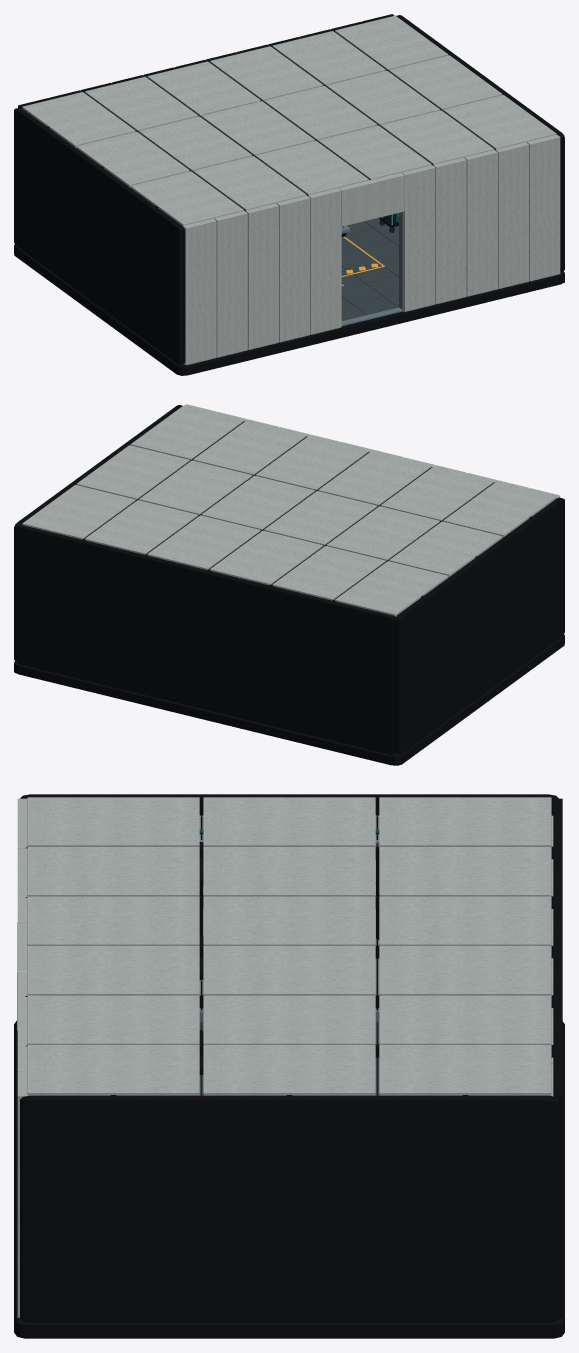
File: industrial-lab.glb
3 views of the same model, one above another, from view 1: azimuth 30°, elevation 25°; view 2: azimuth 150°, elevation 25°; view 3: azimuth 270°, elevation 25° (orthographic). The views are drawn at different scales.
Visible parts, largest first — view 1: SideWall_Structure, Foundation, FrontWall_Panel.005, FrontWall_Panel, FrontWall_Panel.003, FrontWall_Panel.004, FrontWall_Panel.007, FrontWall_Panel.001, FrontWall_Panel.006, FrontWall_Panel.008, FrontWall_Panel.009, FrontWall_Panel.002 (+27 smaller); view 2: SideWall_Structure, Foundation, RearWall_Structure, RearWall_Structure.003, RearWall_Structure.005, RearWall_Structure.001, RearWall_Structure.004, RearWall_Structure.007, RearWall_Structure.008, RearWall_Structure.002, RearWall_Structure.006, RearWall_Structure.009 (+21 smaller); view 3: SideWall_Structure.001, Foundation, Ceiling_RemovablePanel.016, Ceiling_RemovablePanel.017, Ceiling_RemovablePanel.015, Ceiling_RemovablePanel.001, Ceiling_RemovablePanel.002, Ceiling_RemovablePanel.003, Ceiling_RemovablePanel.004, Ceiling_RemovablePanel.005, Ceiling_RemovablePanel.006, Ceiling_RemovablePanel.007 (+11 smaller).
Boxes of the visible parts, <box> form: SideWall_Structure: <box>14,107,184,364</box>; Foundation: <box>14,245,564,375</box>; FrontWall_Panel.005: <box>402,165,435,311</box>; FrontWall_Panel: <box>183,218,216,365</box>; FrontWall_Panel.003: <box>276,195,310,342</box>; FrontWall_Panel.004: <box>308,188,341,334</box>; FrontWall_Panel.007: <box>464,149,497,296</box>; FrontWall_Panel.001: <box>214,211,247,357</box>; FrontWall_Panel.006: <box>433,157,466,304</box>; FrontWall_Panel.008: <box>496,142,529,288</box>; FrontWall_Panel.009: <box>527,134,560,281</box>; FrontWall_Panel.002: <box>246,203,278,349</box>; SideWall_Structure: <box>394,497,564,754</box>; Foundation: <box>14,634,564,765</box>; RearWall_Structure: <box>361,609,395,755</box>; RearWall_Structure.003: <box>268,586,301,732</box>; RearWall_Structure.005: <box>205,571,238,717</box>; RearWall_Structure.001: <box>330,601,364,747</box>; RearWall_Structure.004: <box>236,578,270,724</box>; RearWall_Structure.007: <box>143,555,176,701</box>; RearWall_Structure.008: <box>111,548,145,694</box>; RearWall_Structure.002: <box>299,593,332,740</box>; RearWall_Structure.006: <box>174,563,207,709</box>; RearWall_Structure.009: <box>80,540,113,686</box>; SideWall_Structure.001: <box>20,1095,558,1322</box>; Foundation: <box>14,1021,564,1338</box>; Ceiling_RemovablePanel.016: <box>203,1045,375,1095</box>; Ceiling_RemovablePanel.017: <box>379,1045,551,1095</box>; Ceiling_RemovablePanel.015: <box>27,1045,199,1095</box>; Ceiling_RemovablePanel.001: <box>203,797,375,846</box>; Ceiling_RemovablePanel.002: <box>379,797,551,846</box>; Ceiling_RemovablePanel.003: <box>27,847,199,896</box>; Ceiling_RemovablePanel.004: <box>203,847,375,896</box>; Ceiling_RemovablePanel.005: <box>379,847,551,896</box>; Ceiling_RemovablePanel.006: <box>27,896,199,945</box>; Ceiling_RemovablePanel.007: <box>203,896,375,945</box>.
Bounding box in the file's own units: 12.4 × 4.52 × 9.4.
17 materials, 6 textured.
